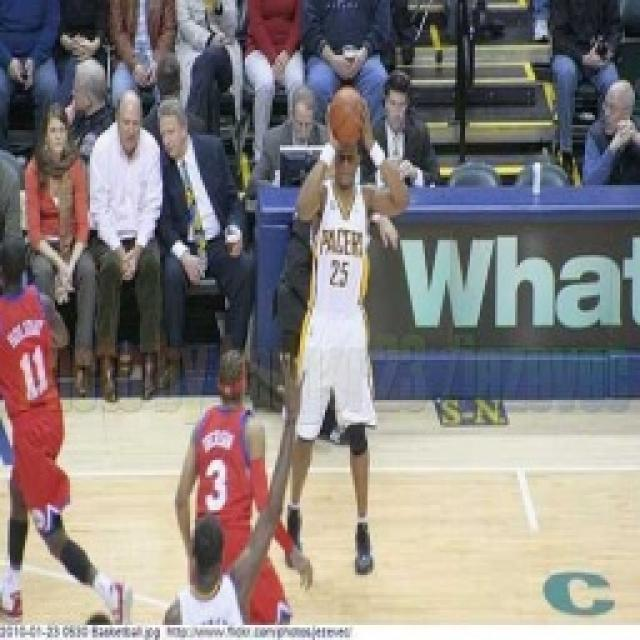rim: (327, 84, 374, 150)
